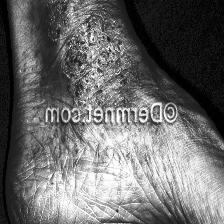Non-Cancerous Skin Condition: (36, 0, 110, 95)
